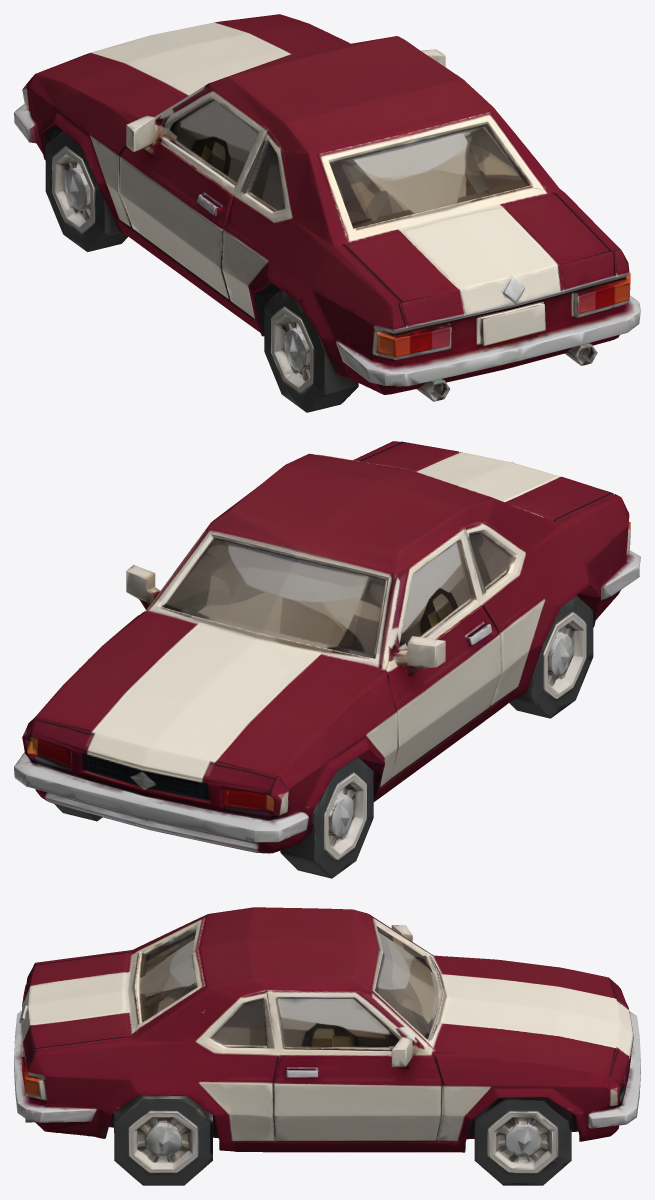
Rendered from car12.fbx.
The picture shows the model from 3 angles, top to bottom: view 1: azimuth 30°, elevation 25°; view 2: azimuth 150°, elevation 25°; view 3: azimuth 270°, elevation 25°; orthographic projection. The views are drawn at different scales.
Visible parts, largest first — view 1: node_0; view 2: node_0; view 3: node_0.
Boxes of the visible parts, x1=… form: node_0: x1=14, y1=14, x2=640, y2=412; node_0: x1=14, y1=441, x2=640, y2=878; node_0: x1=14, y1=907, x2=640, y2=1185.
Size of the model in its own units: 53.78 by 38.51 by 114.
